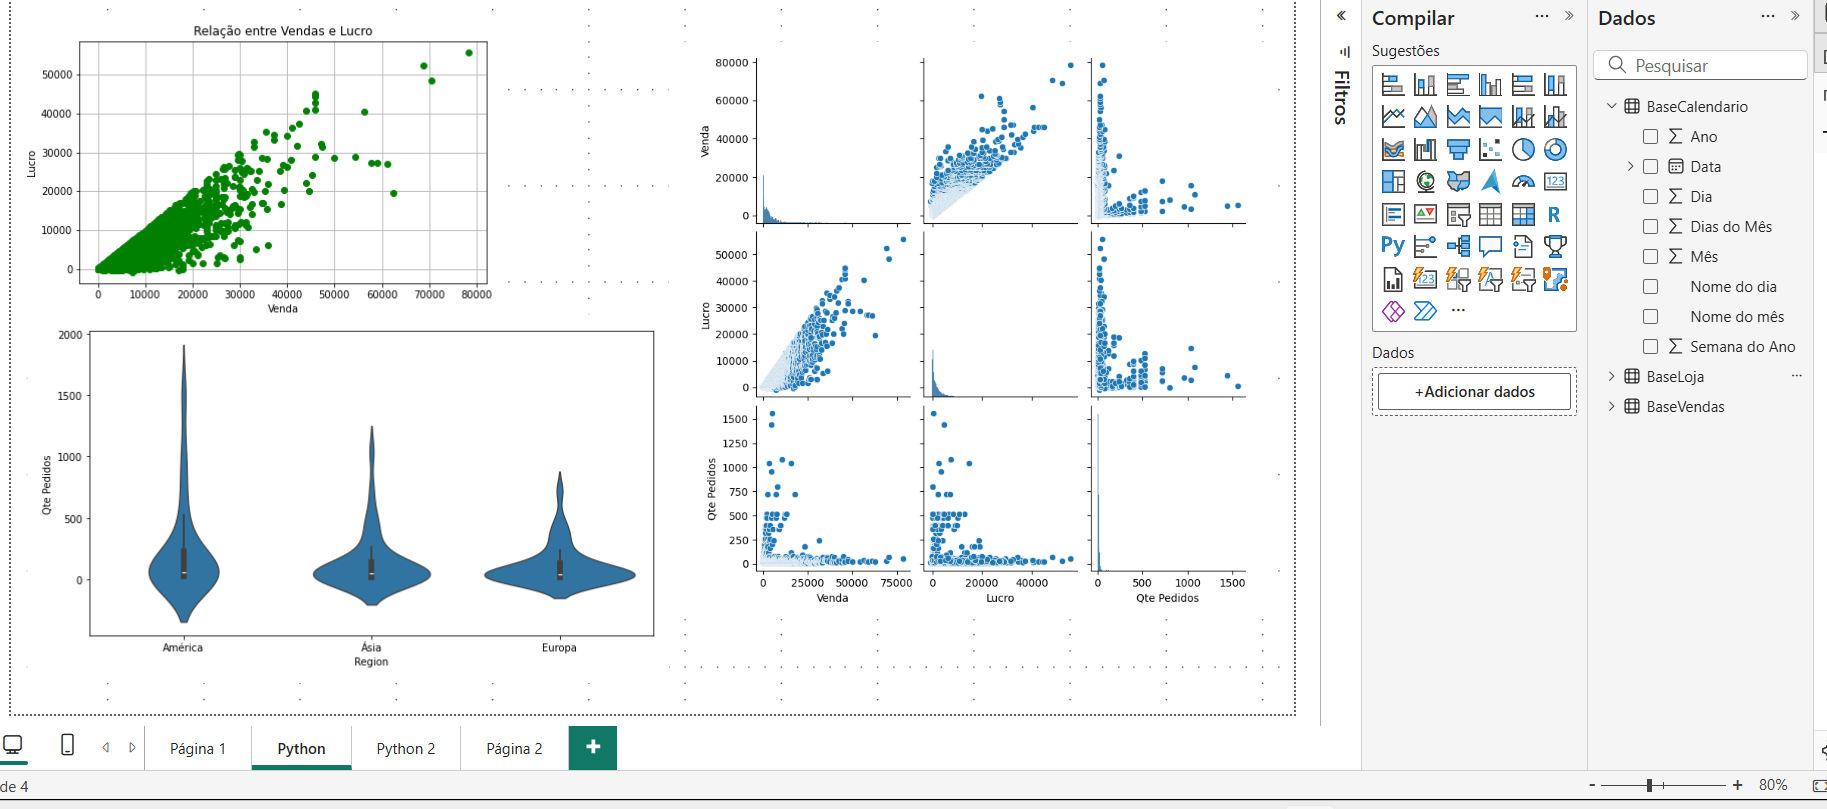

This screenshot's page, from the dashboard's own definition file:
{"tool":"powerbi","page":{"name":"Python","canvas":[1280,720],"ordinal":1},"visuals":[{"type":"pythonVisual","fields":{"Values":["BaseVendas.Venda","BaseVendas.Lucro"]},"box":[0,16,496,320],"z":0},{"type":"pythonVisual","fields":{"Values":["BaseVendas.Qte Pedidos","BaseVendas.Region"]},"box":[16,320,640,368],"z":1000},{"type":"pythonVisual","fields":{"Values":["BaseVendas.Venda","BaseVendas.Lucro","BaseVendas.Qte Pedidos"]},"box":[656,48,608,576],"z":2000}]}

Visuals, with their boxes on the page's 1280x720 design canvas (x1, y1, x2, y2). These are canvas units, not pixel positions in the 1827x809 screenshot, which may show the page scaled, cropped or inside an application window:
pythonVisual - BaseVendas.Venda x BaseVendas.Lucro: bbox(0, 16, 496, 336)
pythonVisual - BaseVendas.Qte Pedidos x BaseVendas.Region: bbox(16, 320, 656, 688)
pythonVisual - BaseVendas.Venda x BaseVendas.Lucro: bbox(656, 48, 1264, 624)
